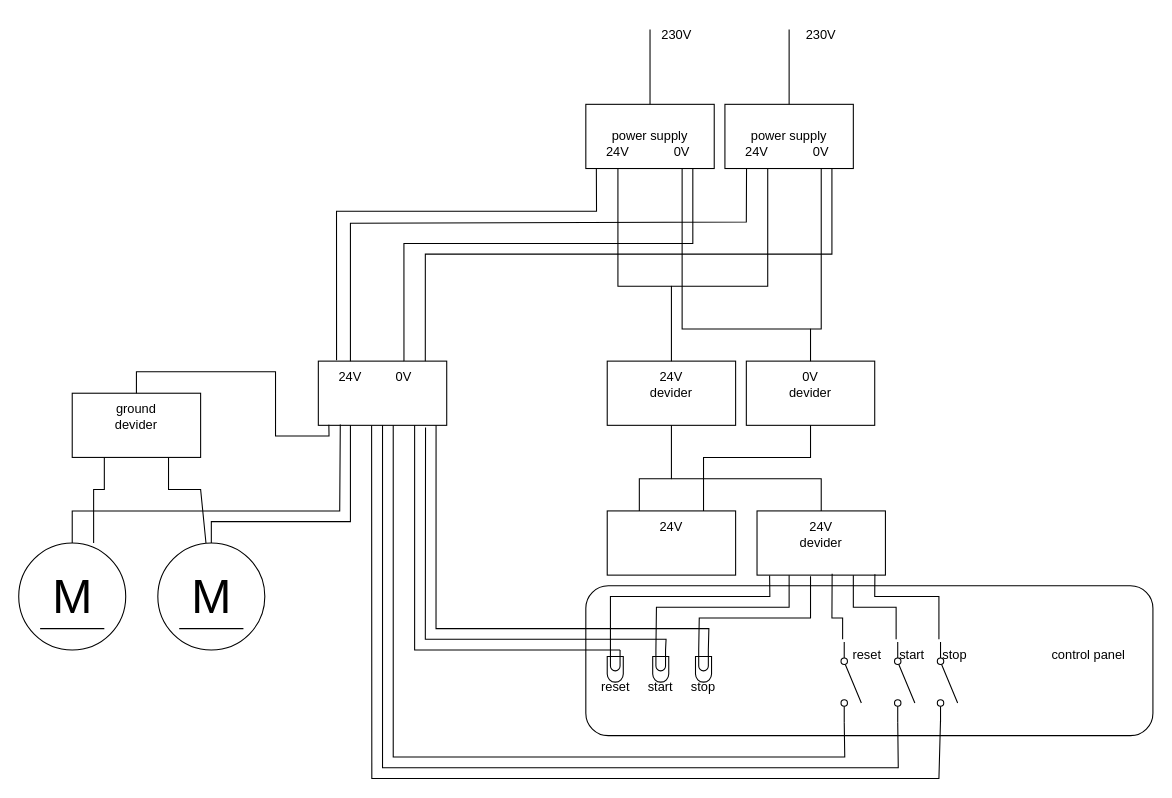
Image size: 1172x798. Some labels were removed from this diagram. The box of each missing label's shape, as (x1, y1, x2, y2) in pixels:
pneumatic cilinder: (606, 510, 736, 575)
terminals: (317, 360, 447, 425)
